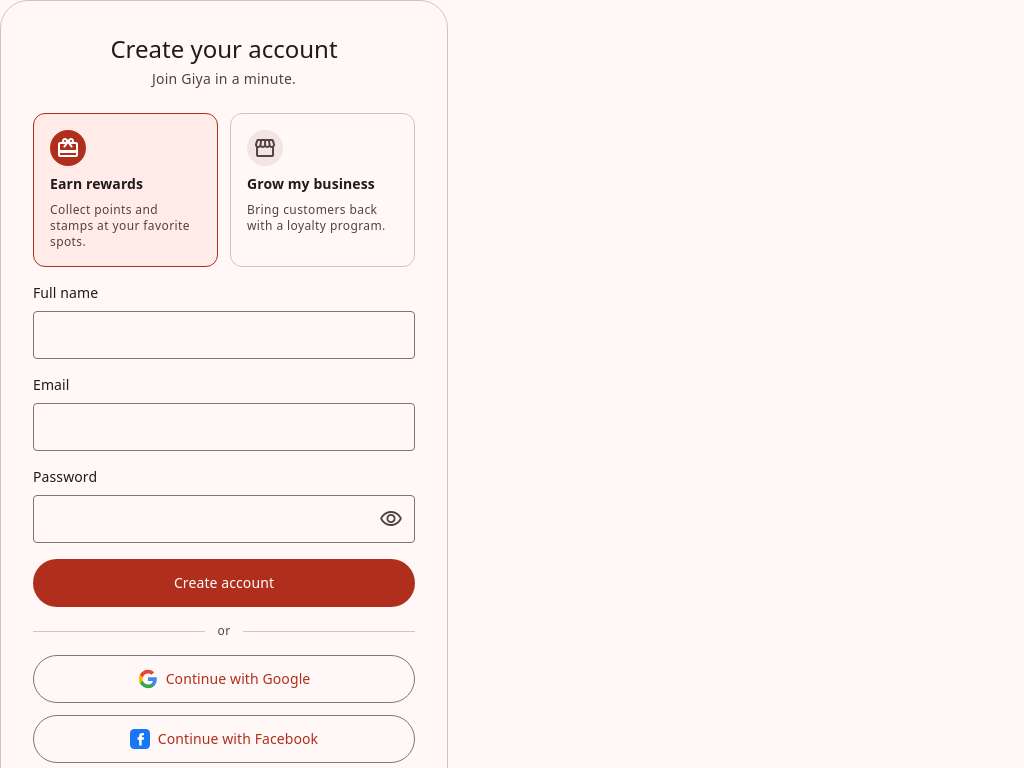
Test: SignupPage submit › shows the CheckEmail state when confirmation is required (user without a session)
In the field labelled "Full name": (224,335) left=33, top=311, right=415, bottom=359, type "Jamie Cruz"
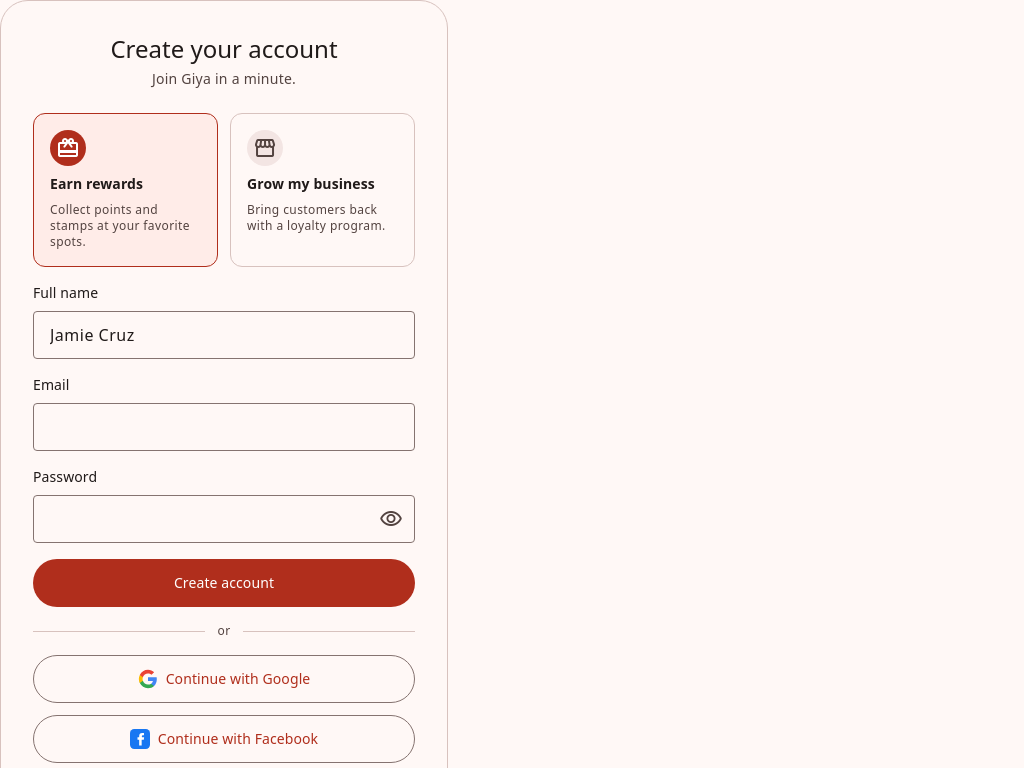
In the field labelled "Email": (224,427) left=33, top=403, right=415, bottom=451, type "jamie@shop.com"
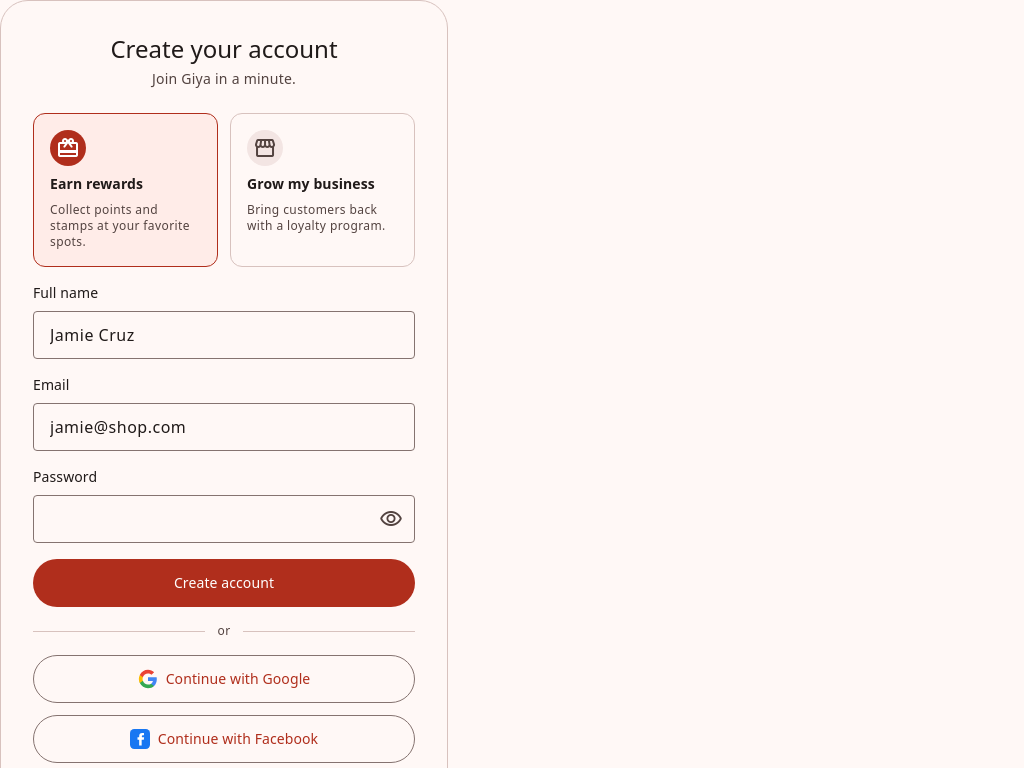
In the password field labelled "Password": (224,519) left=33, top=495, right=415, bottom=543, type "secret123"
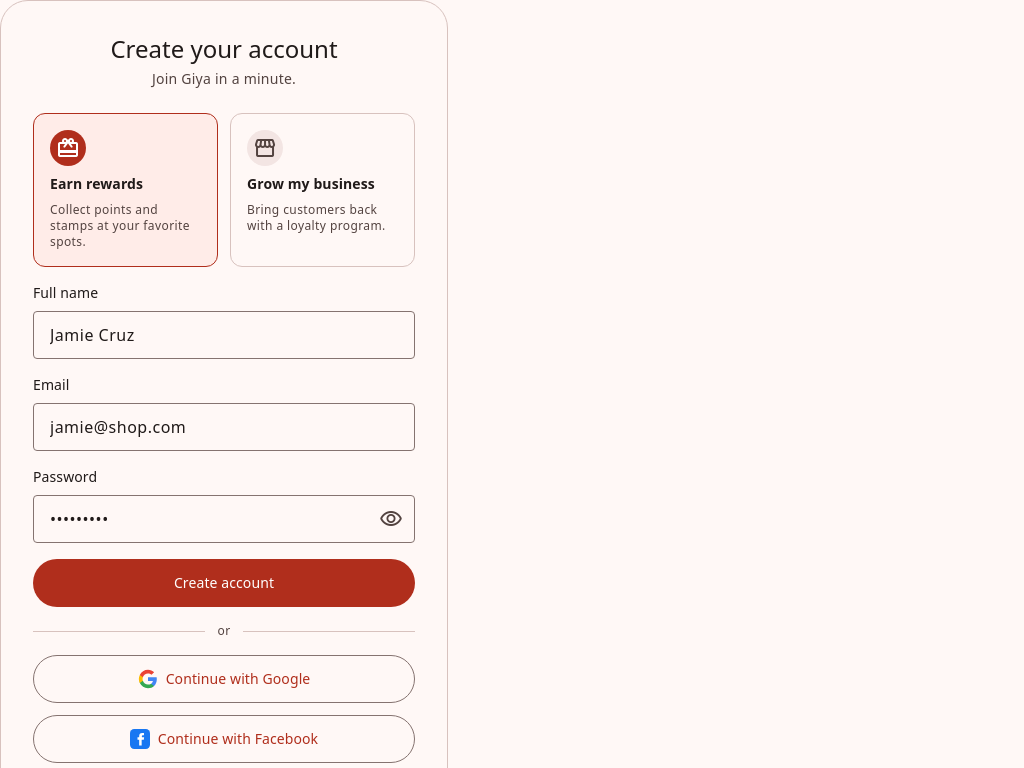
Click the button "Create account": (224,583) left=33, top=559, right=415, bottom=607
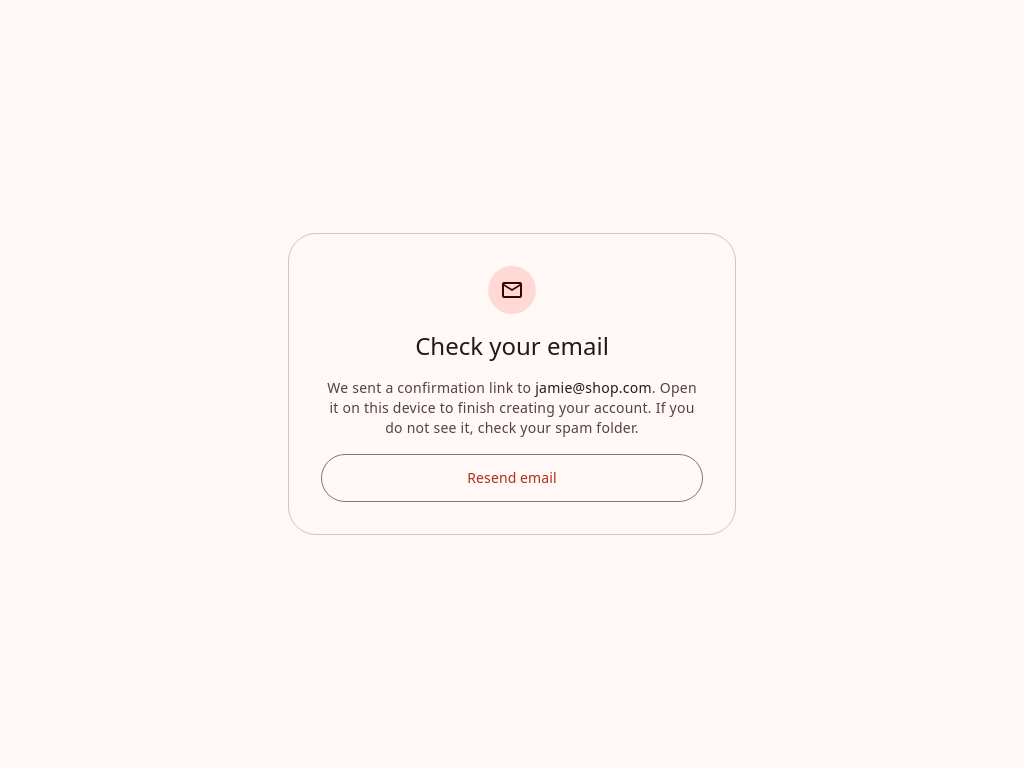
Check: the heading "Check your email" is shown, box left=415, top=330, right=609, bottom=362
Check: the text "jamie@shop.com" is shown, box left=535, top=378, right=652, bottom=397
